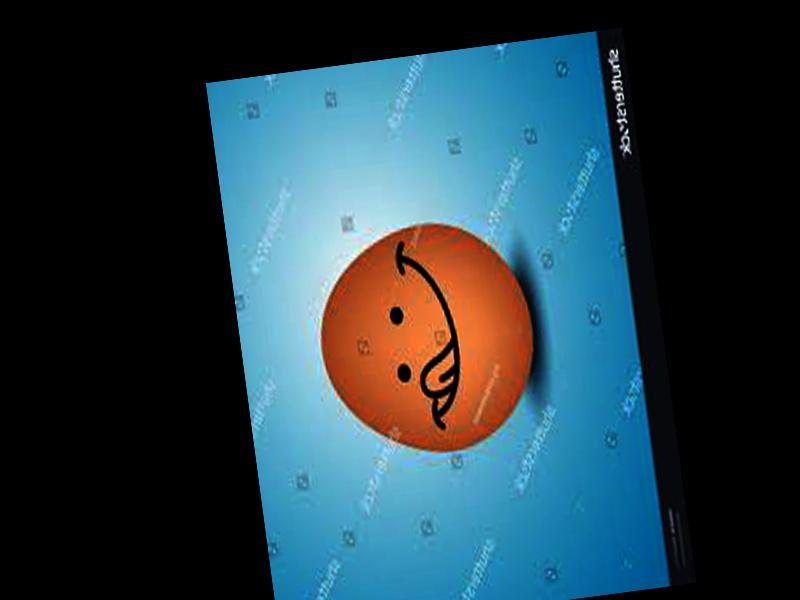Eggs: (307, 211, 547, 466)
